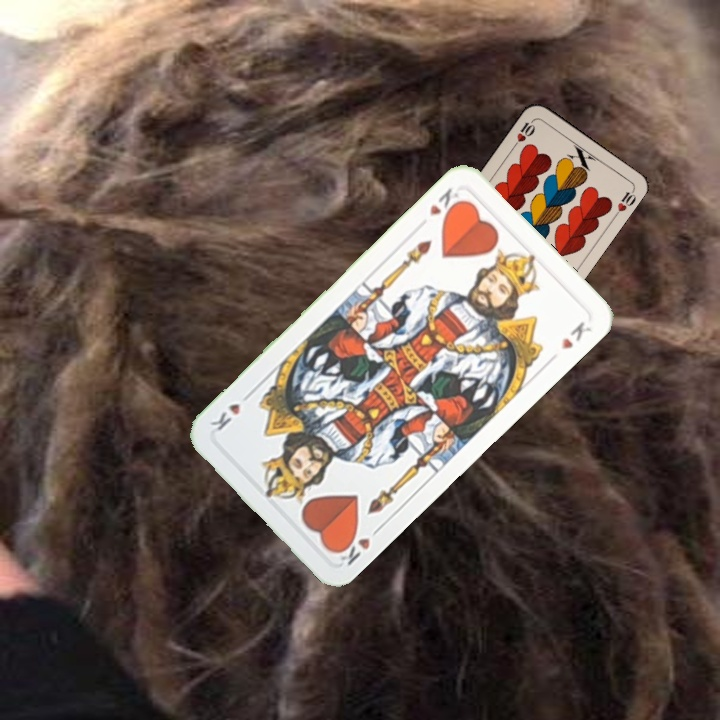H10: (509, 116, 538, 151)
HK: (332, 522, 385, 568), (425, 183, 468, 222)
